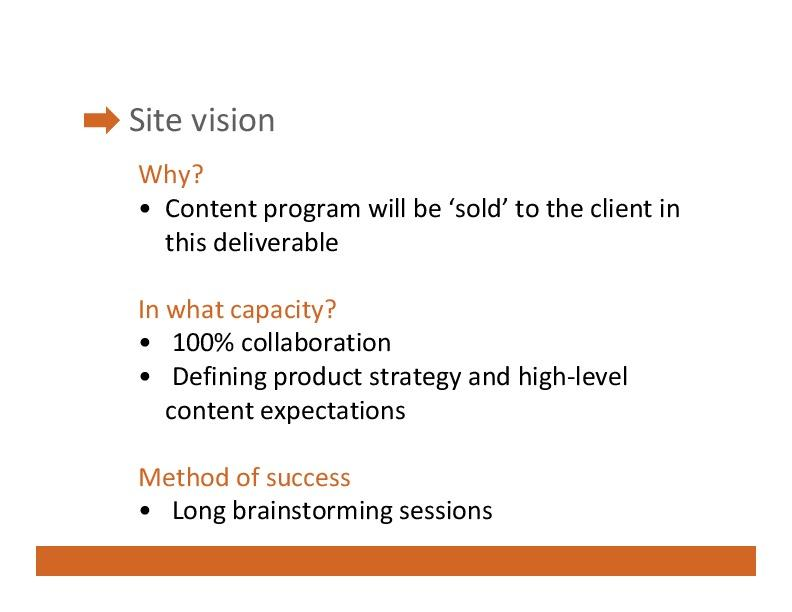paragraph: (136, 154, 713, 526)
title: (125, 97, 291, 142)
